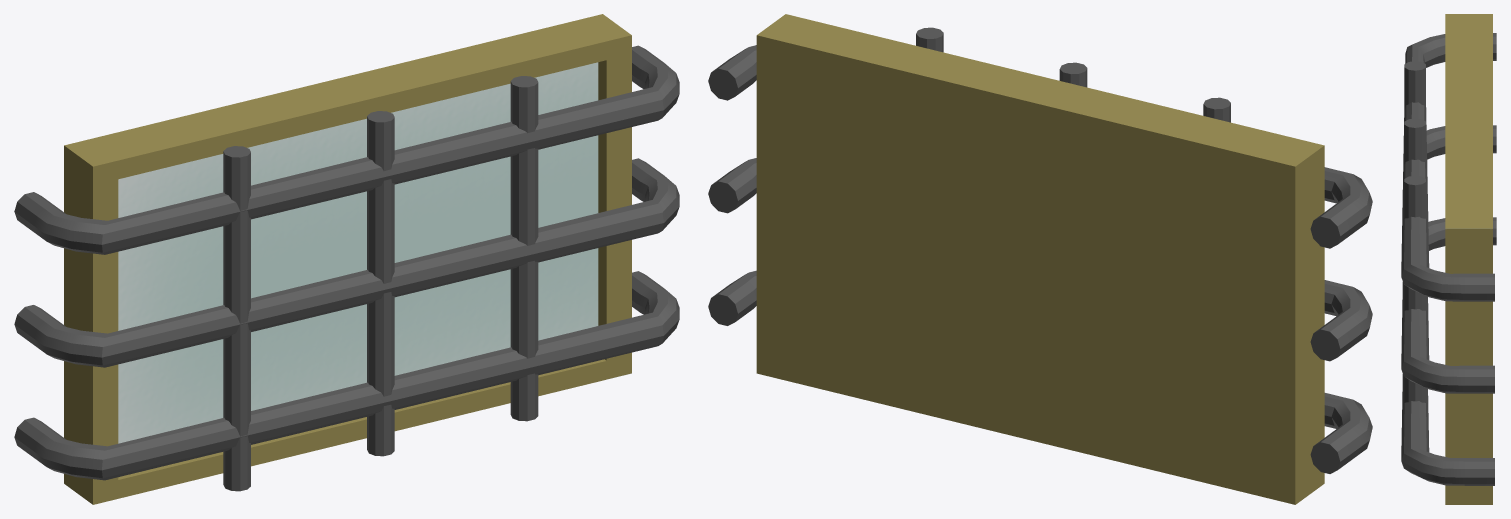
Rendered from Window.fbx.
The picture shows the model from 3 angles, left to right: view 1: azimuth 30°, elevation 25°; view 2: azimuth 150°, elevation 25°; view 3: azimuth 270°, elevation 25°; orthographic projection. The views are drawn at different scales.
Visible parts, largest first — view 1: Window; view 2: Window; view 3: Window.
Part boxes in pixels (x1,y1,x2,y2): Window: (14,14,679,504); Window: (708,14,1372,504); Window: (1401,14,1496,504).
Size of the model in its own units: 88.17 by 45 by 14.11.
2 materials, 2 textured.
